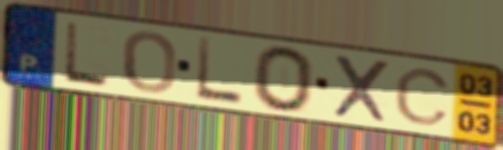C: (392, 66, 453, 127)
L: (194, 34, 246, 107), (60, 19, 112, 90)
O: (251, 43, 317, 114), (120, 29, 178, 95)
X: (330, 51, 393, 126)
